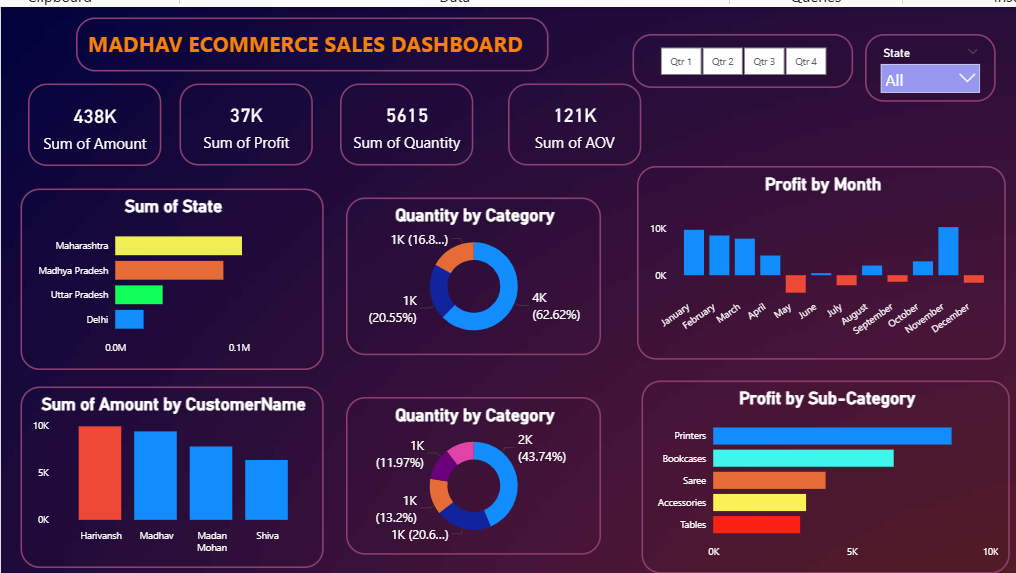

The page's visual inventory and layout, read from the dashboard file:
{"tool":"powerbi","page":{"name":"Page 1","canvas":[1280,720],"ordinal":0},"visuals":[{"type":"textbox","box":[94.5,13.2,595.3,68],"z":0},{"type":"columnChart","title":"Profit by Month","fields":{"Category":["Orders (1).Order Date.Variation.Date Hierarchy.Month"],"Y":["Sum(Details (1).Profit)"]},"box":[801.3,200.3,464.9,243.8],"z":1000},{"type":"barChart","title":"Profit by Sub-Category","fields":{"Y":["Sum(Details (1).Profit)"],"Category":["Details (1).Sub-Category"]},"box":[806.9,470.6,464,243],"z":2000},{"type":"donutChart","title":"Quantity by Category","fields":{"Y":["Sum(Details (1).Quantity)"],"Category":["Details (1).Category"]},"box":[434.6,240,321.3,198.4],"z":3000},{"type":"donutChart","title":"Quantity by Category","fields":{"Y":["Sum(Details (1).Quantity)"],"Category":["Details (1).PaymentMode"]},"box":[434.6,491.3,321.3,198.4],"z":4000},{"type":"card","fields":{"Values":["Sum(Details (1).Amount)"]},"box":[34,96.4,168.2,103.9],"z":5000},{"type":"card","fields":{"Values":["Sum(Details (1).Profit)"]},"box":[224,96,168,103],"z":6000},{"type":"card","fields":{"Values":["Sum(Details (1).Quantity)"]},"box":[428,96,168,103],"z":7000},{"type":"card","fields":{"Values":["Sum(Details (1).AOV)"]},"box":[638,96,168,103],"z":8000},{"type":"barChart","title":"Sum of State","fields":{"Category":["Orders (1).State"],"Y":["Sum(Details (1).Amount)"]},"box":[24.6,228.7,381.7,228.7],"z":9000},{"type":"columnChart","fields":{"Category":["Orders (1).CustomerName"],"Y":["Sum(Details (1).Amount)"]},"box":[24.6,478.1,381.7,228.7],"z":9001},{"type":"slicer","fields":{"Values":["Orders (1).Order Date.Variation.Date Hierarchy.Quarter"]},"box":[795.6,34,277.8,68],"z":9002},{"type":"slicer","fields":{"Values":["Orders (1).State"]},"box":[1088.5,34,164.4,85],"z":9003}]}

Visuals, with their boxes on the page's 1280x720 design canvas (x1, y1, x2, y2). These are canvas units, not pixel positions in the 1016x573 screenshot, which may show the page scaled, cropped or inside an application window:
textbox: 94, 13, 690, 81
"Profit by Month" columnChart: 801, 200, 1266, 444
"Profit by Sub-Category" barChart: 807, 471, 1271, 714
"Quantity by Category" donutChart: 435, 240, 756, 438
"Quantity by Category" donutChart: 435, 491, 756, 690
card - Sum(Details (1).Amount): 34, 96, 202, 200
card - Sum(Details (1).Profit): 224, 96, 392, 199
card - Sum(Details (1).Quantity): 428, 96, 596, 199
card - Sum(Details (1).AOV): 638, 96, 806, 199
"Sum of State" barChart: 25, 229, 406, 457
columnChart - Orders (1).CustomerName x Sum(Details (1).Amount): 25, 478, 406, 707
slicer - Orders (1).Order Date.Variation.Date Hierarchy.Quarter: 796, 34, 1073, 102
slicer - Orders (1).State: 1088, 34, 1253, 119
